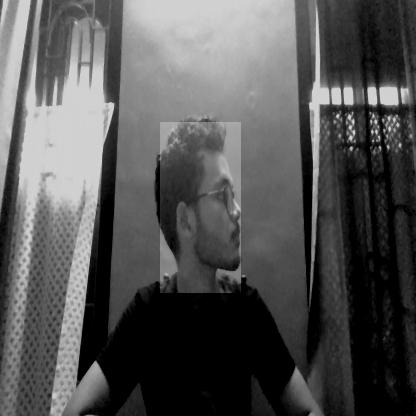Distracted: (160, 122, 241, 293)
